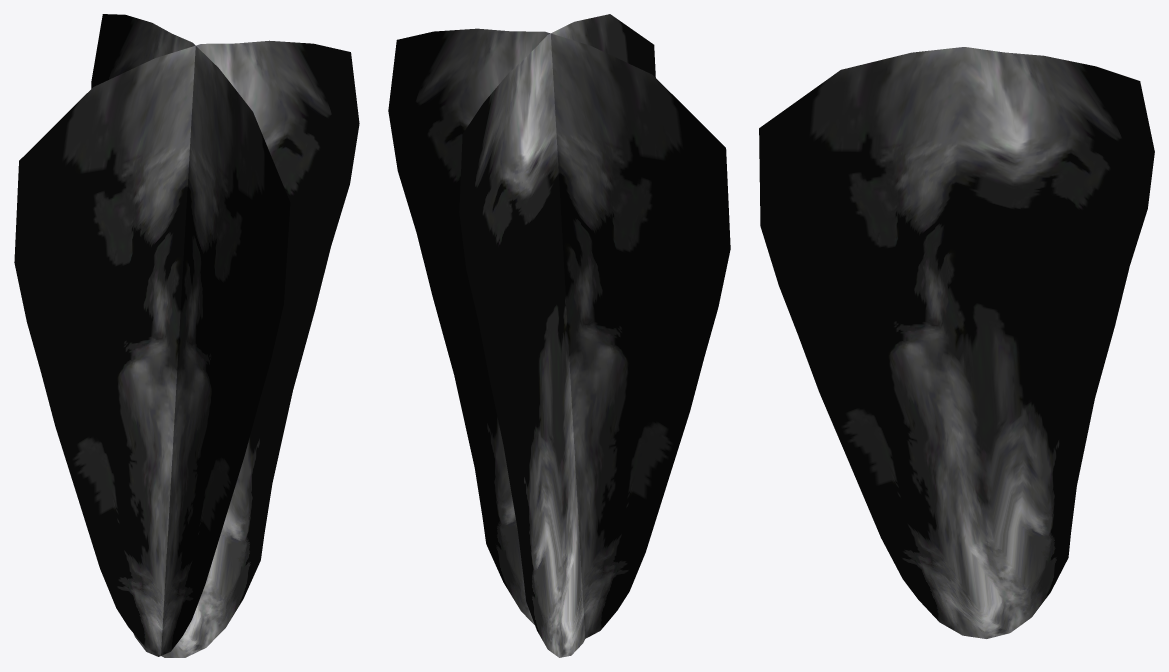
Rendered from effect_yanwu_mo #283026.fbx.
The picture shows the model from 3 angles, left to right: view 1: azimuth 30°, elevation 25°; view 2: azimuth 150°, elevation 25°; view 3: azimuth 270°, elevation 25°; orthographic projection.
Parts seen in each view (by area): view 1: effect_yanwu_mo; view 2: effect_yanwu_mo; view 3: effect_yanwu_mo.
Boxes of the visible parts, x1,y1,x2,y2 form: effect_yanwu_mo: (14, 14, 359, 657); effect_yanwu_mo: (388, 14, 730, 657); effect_yanwu_mo: (759, 47, 1154, 638).
Bounding box in the file's own units: 1.19 × 2 × 1.18.
